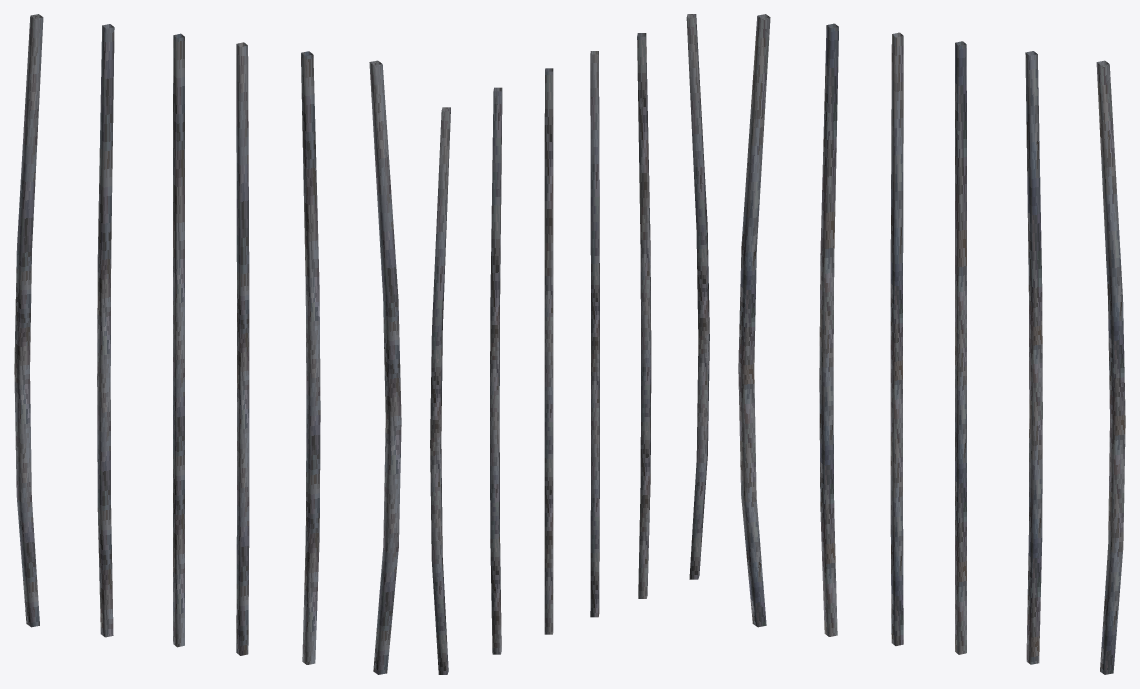
Rendered from EKH_THRONE_ANIM_TH_GATE_BARS__AI.fbx.
3 renders of one model, left to right at view 1: azimuth 90°, elevation 25°; view 2: azimuth 150°, elevation 25°; view 3: azimuth 270°, elevation 25°, orthographic. The views are drawn at different scales.
Parts seen in each view (by area): view 1: EKH_THRONE_ANIM_TH_GATE_BARS__AI; view 2: EKH_THRONE_ANIM_TH_GATE_BARS__AI; view 3: EKH_THRONE_ANIM_TH_GATE_BARS__AI.
Part boxes in pixels (<box>): EKH_THRONE_ANIM_TH_GATE_BARS__AI: <box>14,14,401,674</box>; EKH_THRONE_ANIM_TH_GATE_BARS__AI: <box>430,14,709,674</box>; EKH_THRONE_ANIM_TH_GATE_BARS__AI: <box>738,14,1125,674</box>.
Bounding box in the file's own units: 6384 × 32375 × 18657.
1 material, 1 textured.
